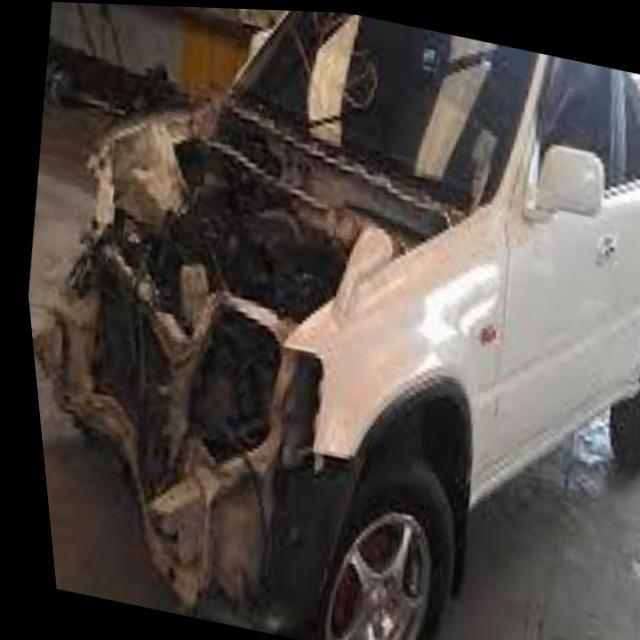no part: (25, 98, 417, 635)
